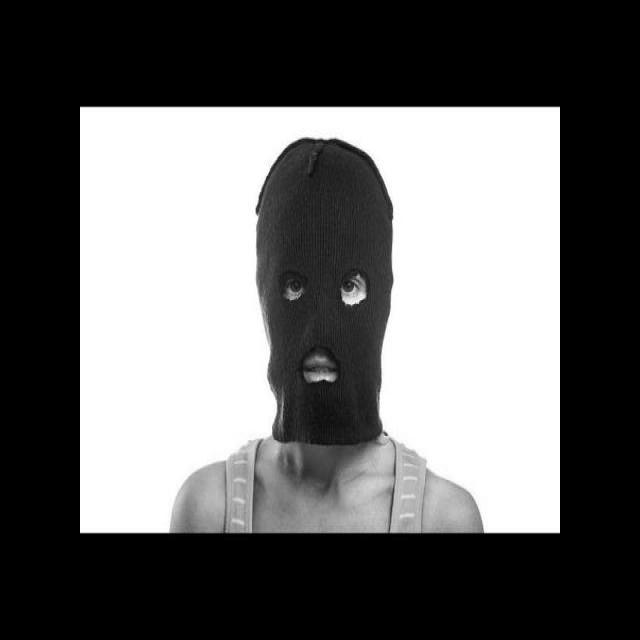6_pasamontana: (255, 137, 392, 447)
